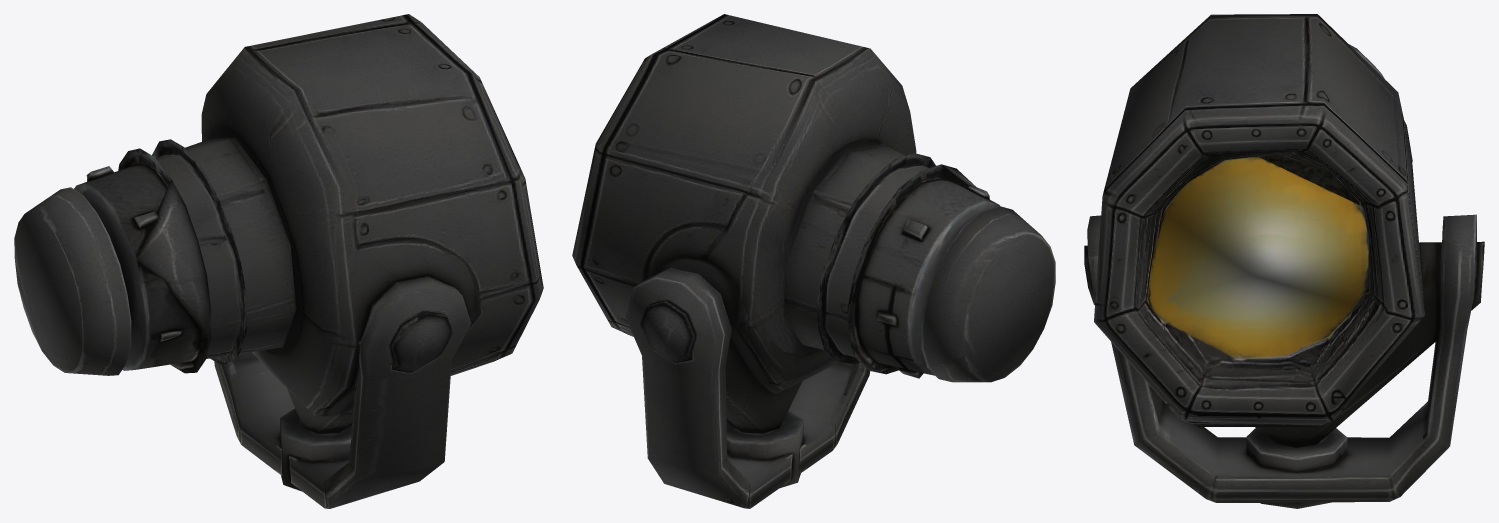
File: cold-iron-v2-light-a-spot.glb
3 renders of one model, left to right at view 1: azimuth 30°, elevation 25°; view 2: azimuth 150°, elevation 25°; view 3: azimuth 270°, elevation 25°, orthographic. The views are drawn at different scales.
Visible parts, largest first — view 1: tripo_node_2809417f-2982-43e3-a94e-2626e32f274b; view 2: tripo_node_2809417f-2982-43e3-a94e-2626e32f274b; view 3: tripo_node_2809417f-2982-43e3-a94e-2626e32f274b.
Boxes of the visible parts, <box> form: tripo_node_2809417f-2982-43e3-a94e-2626e32f274b: <box>14,14,543,508</box>; tripo_node_2809417f-2982-43e3-a94e-2626e32f274b: <box>572,14,1055,508</box>; tripo_node_2809417f-2982-43e3-a94e-2626e32f274b: <box>1084,14,1484,508</box>.
Bounding box in the file's own units: 0.998 × 0.9902 × 0.8145.
Materials: 1 (1 with a texture image).
